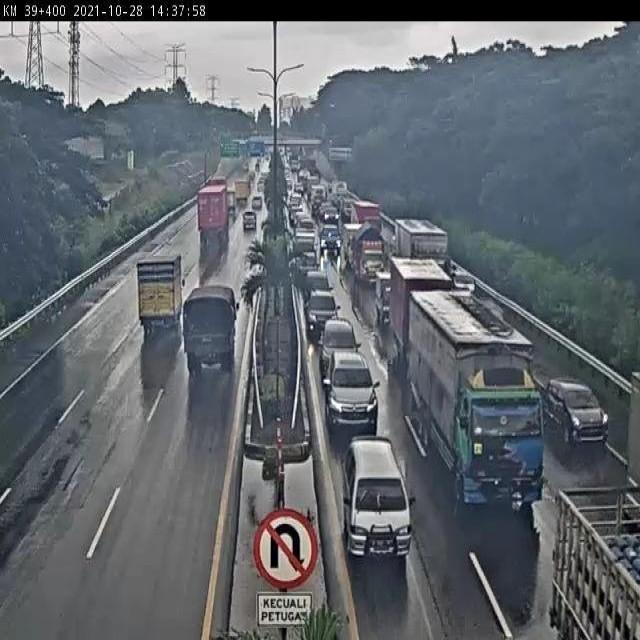car: (544, 376, 613, 445), (318, 220, 343, 251)
truck-l-: (405, 285, 542, 499), (397, 218, 450, 290)
truck-m-: (184, 284, 239, 377), (136, 258, 185, 338), (350, 225, 387, 283)
truck-xl-: (196, 186, 230, 246)
